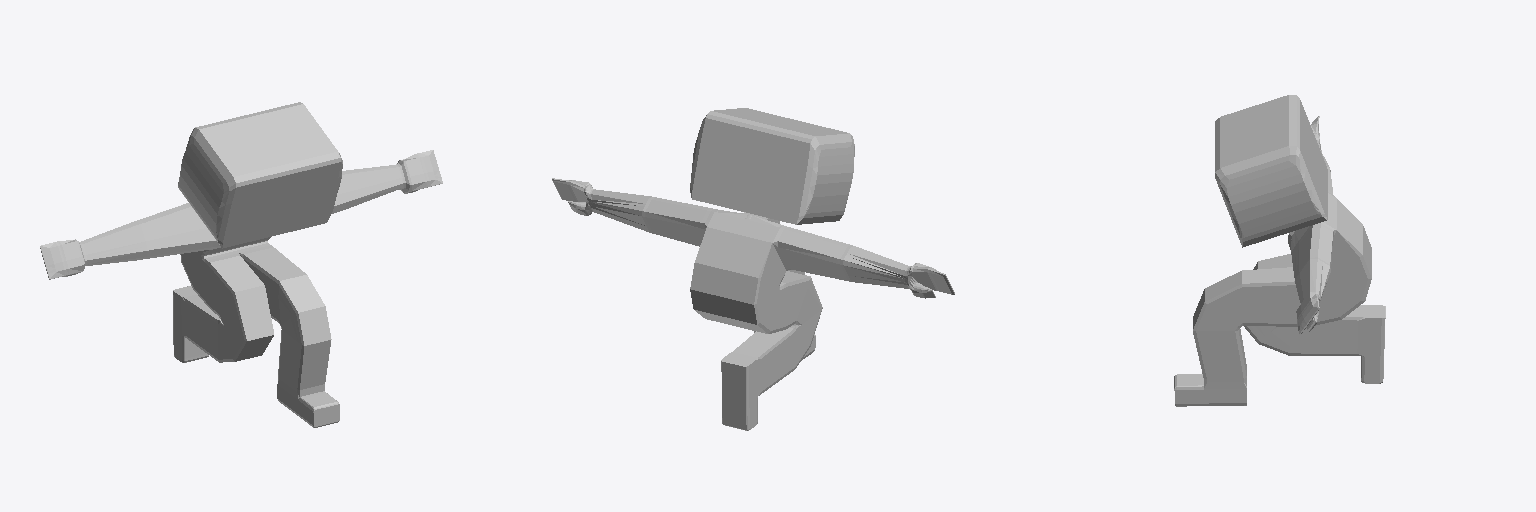
Rendered from CharacterCrouch.obj.
The picture shows the model from 3 angles: view 1: azimuth 30°, elevation 25°; view 2: azimuth 150°, elevation 25°; view 3: azimuth 270°, elevation 25°; orthographic projection.
Bounding box in the file's own units: 1.96 × 1.29 × 0.9098.